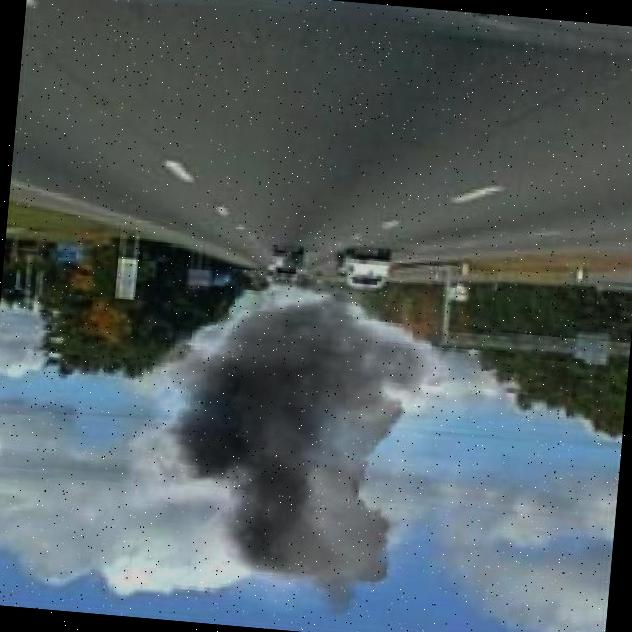smoke: (180, 265, 433, 603)
